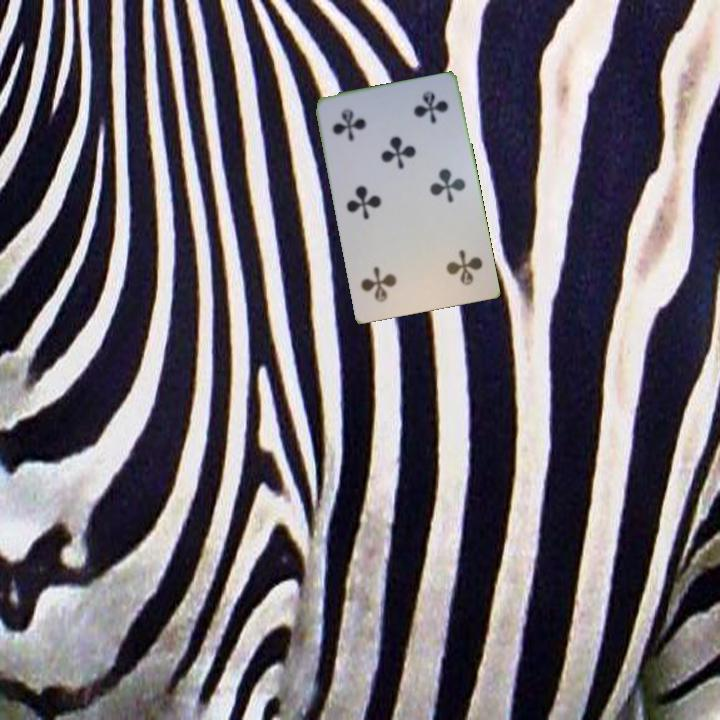c_7.png: (324, 93, 400, 162), (413, 232, 489, 301)
